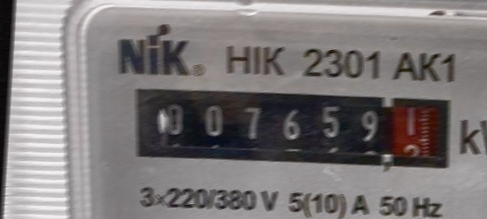0: (200, 104, 225, 142), (161, 101, 184, 142)
1: (400, 104, 418, 141)
5: (318, 105, 340, 143)
6: (278, 107, 302, 145)
7: (238, 105, 261, 144)
9: (356, 109, 379, 147)
screen: (121, 77, 460, 186)
